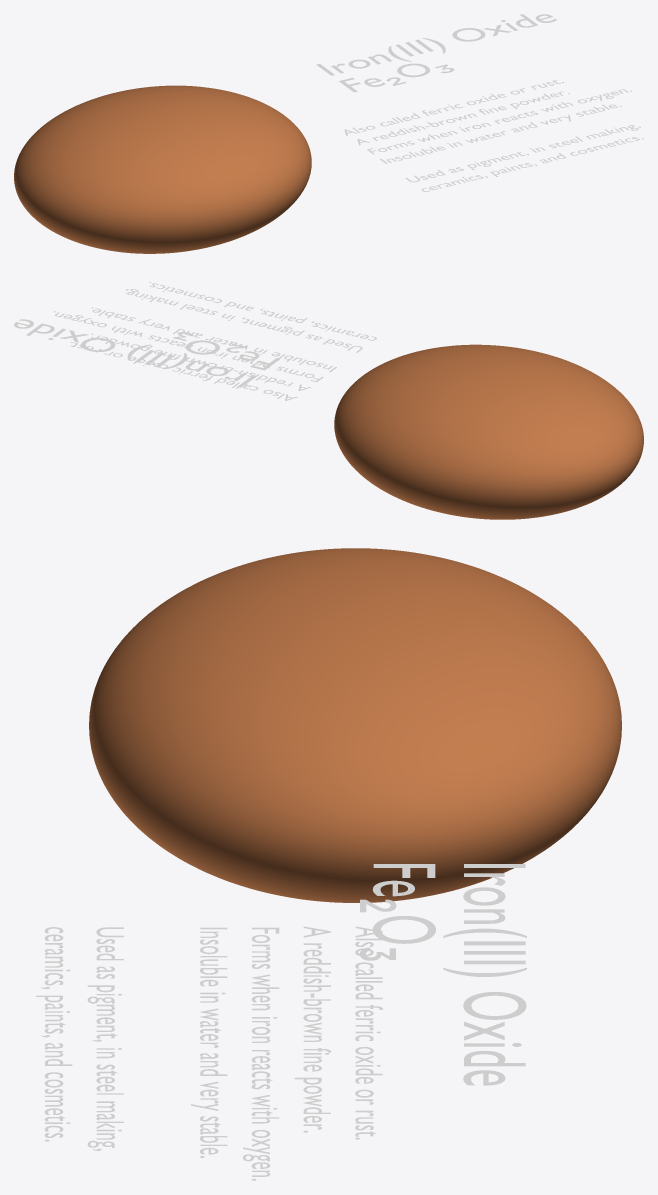
The model's file is ironoxide.glb.
3 views of the same model, one above another, from view 1: azimuth 30°, elevation 25°; view 2: azimuth 150°, elevation 25°; view 3: azimuth 270°, elevation 25° (orthographic). The views are drawn at different scales.
Visible parts, largest first — view 1: Fe2O3_Rust, Text.001, Text; view 2: Fe2O3_Rust, Text.001, Text; view 3: Fe2O3_Rust, Text.001, Text.
Boxes of the visible parts, x1=… form: Fe2O3_Rust: x1=14, y1=85, x2=311, y2=253; Text.001: x1=344, y1=80, x2=643, y2=191; Text: x1=316, y1=14, x2=556, y2=92; Fe2O3_Rust: x1=334, y1=344, x2=643, y2=519; Text.001: x1=54, y1=282, x2=376, y2=400; Text: x1=14, y1=319, x2=280, y2=387; Fe2O3_Rust: x1=89, y1=548, x2=621, y2=902; Text.001: x1=36, y1=926, x2=382, y2=1180; Text: x1=359, y1=864, x2=526, y2=1085.
Size of the model in its own units: 11.05 by 2.21 by 4.86.
